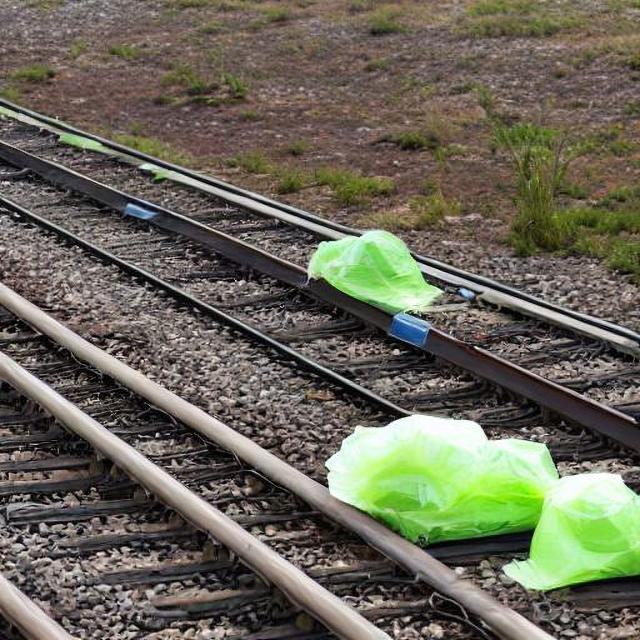plastic bag: (322, 419, 570, 539), (511, 471, 637, 590), (305, 225, 447, 315)
